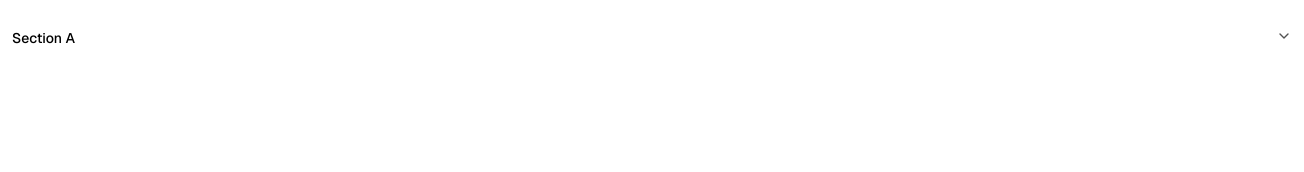
Scenario: Accordion › expands a panel when the trigger is clicked
What coordinates should you click on to do the following:
click the button "Section A"
I would click on:
 (44, 38)
Its box is [12, 12, 1292, 64].
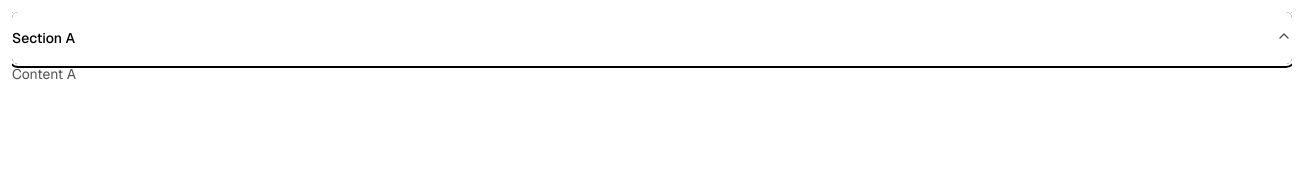
Check: the button "Section A" is expanded, box [12, 12, 1292, 64]
Check: the text "Content A" is shown, box [12, 65, 76, 83]
